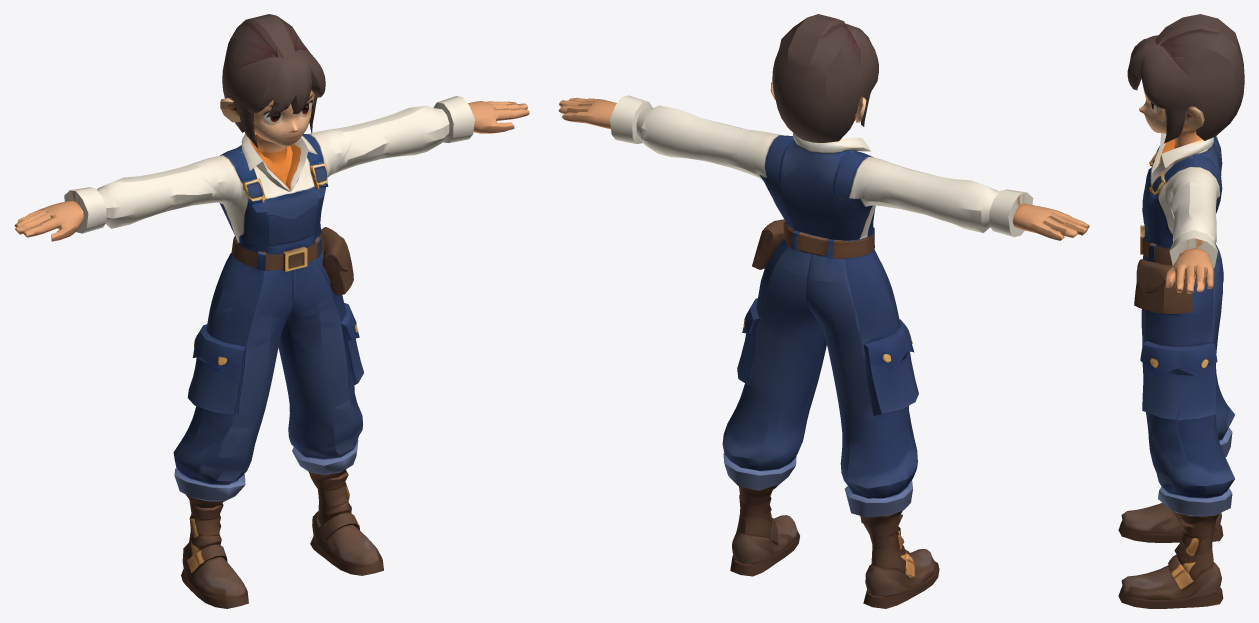
The model's file is female_rare.obj.
3 renders of one model, left to right at view 1: azimuth 30°, elevation 25°; view 2: azimuth 150°, elevation 25°; view 3: azimuth 270°, elevation 25°, orthographic. The views are drawn at different scales.
Visible parts, largest first — view 1: model; view 2: model; view 3: model.
Part boxes in pixels (left/top/right/bottom): model: left=14, top=14, right=529, bottom=608; model: left=558, top=14, right=1089, bottom=608; model: left=1118, top=14, right=1244, bottom=608.
Size of the model in its own units: 1.67 by 1.71 by 0.3574.
Materials: 1 (1 with a texture image).
